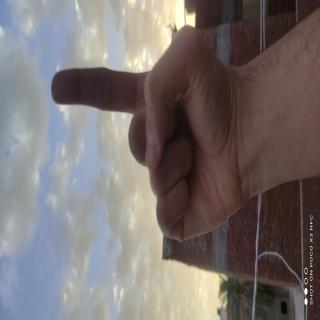BAA: (33, 105, 132, 320)
